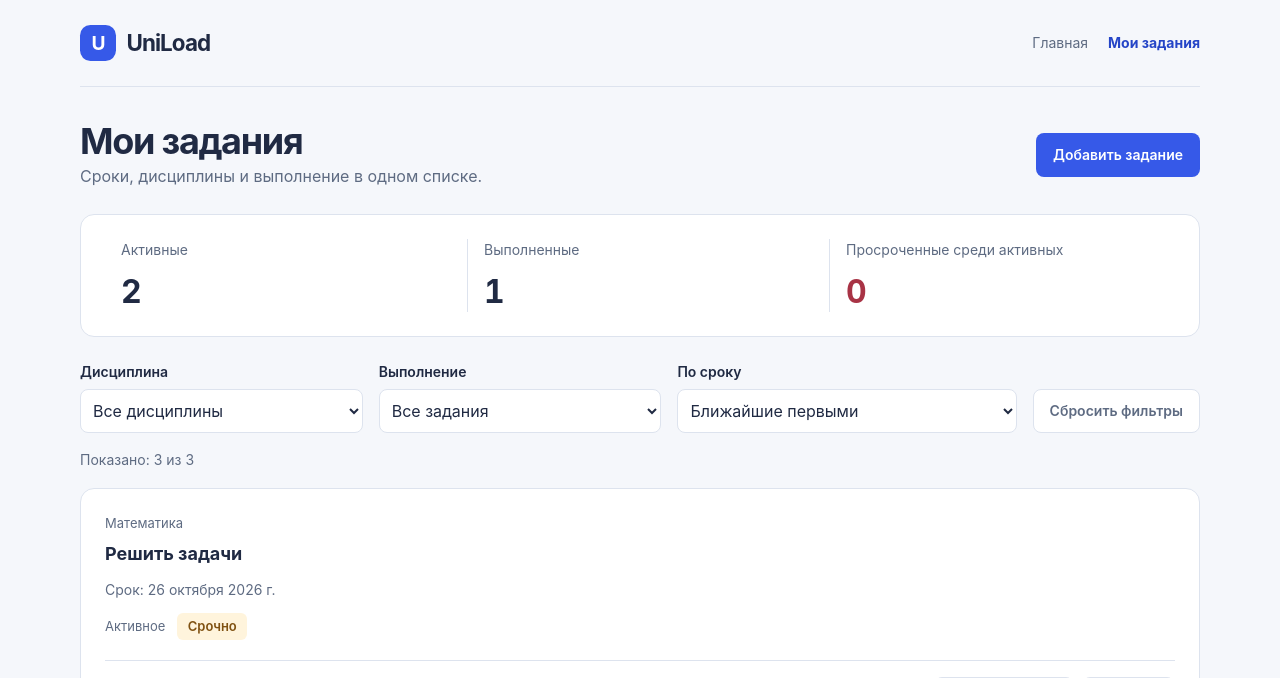
it: FR-08: совместные фильтры › T09: применяет дисциплину и выполнение вместе, не меняя общие числа и данные
Select "Математика" in the dropdown labelled "Дисциплина" at point(221, 411), box [80, 389, 363, 433]
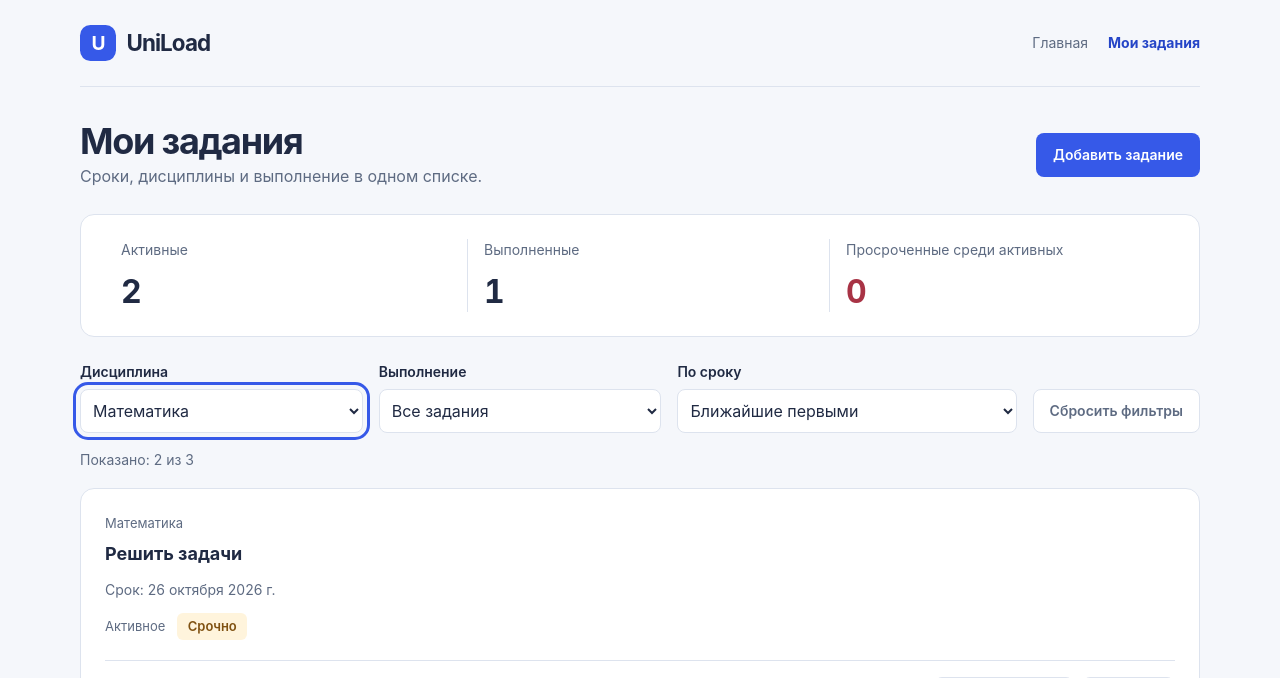
Select "Активные" in the dropdown labelled "Выполнение" at point(520, 411), box [379, 389, 661, 433]
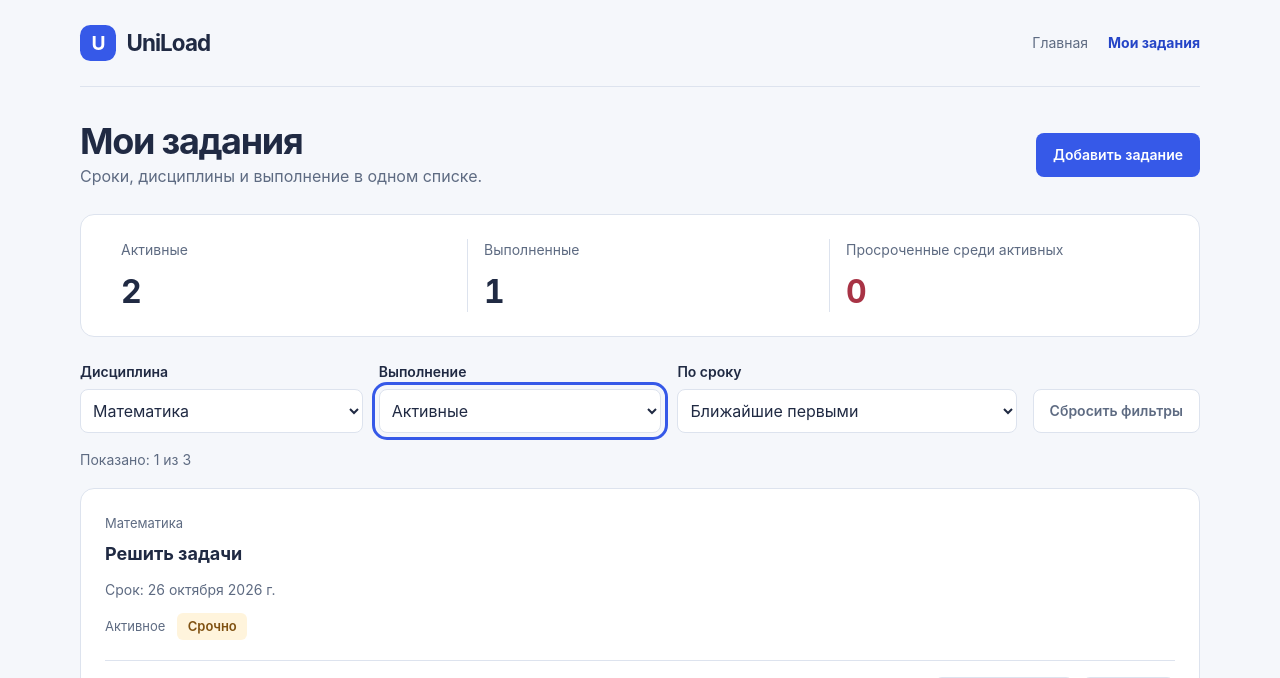
Expected: the heading "Решить задачи" is shown, [105, 543, 242, 564]
Result: the text "Показано: 1 из 3" is shown at [80, 451, 191, 468]
Select "Выполненные" in the dropdown labelled "Выполнение" at point(520, 411), box [379, 389, 661, 433]
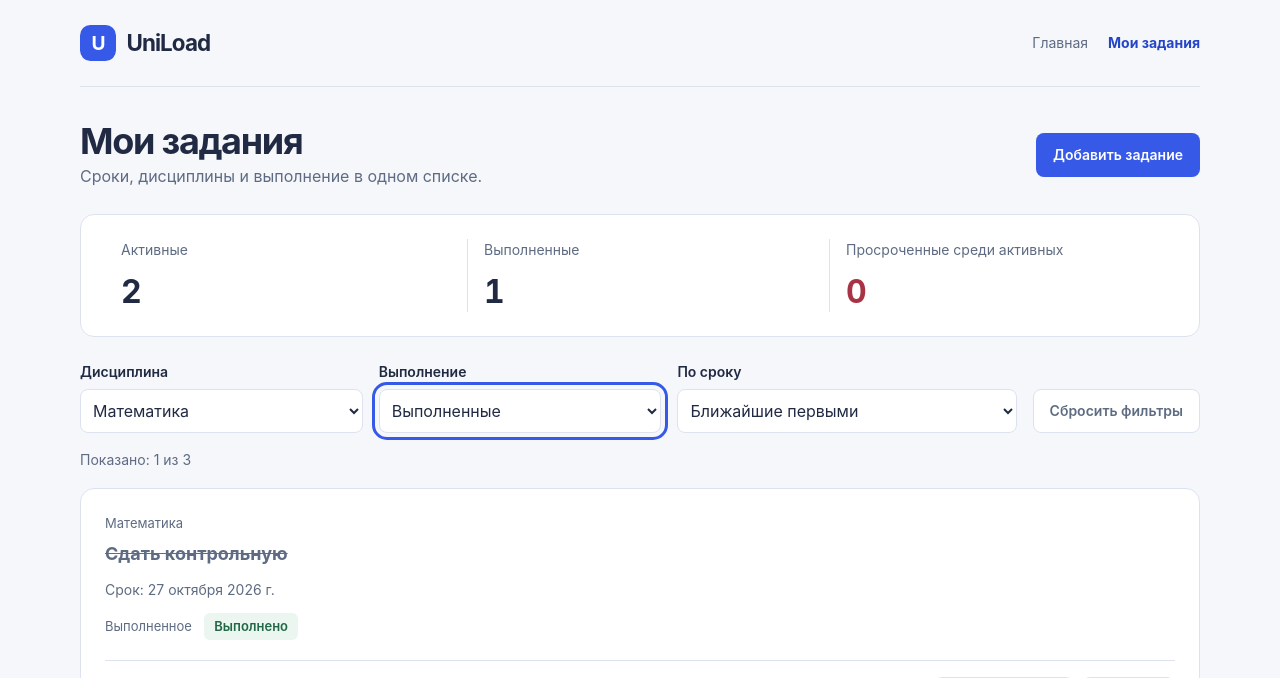
Result: the heading "Сдать контрольную" is shown at [105, 543, 288, 564]
Result: the heading "Решить задачи" is gone
